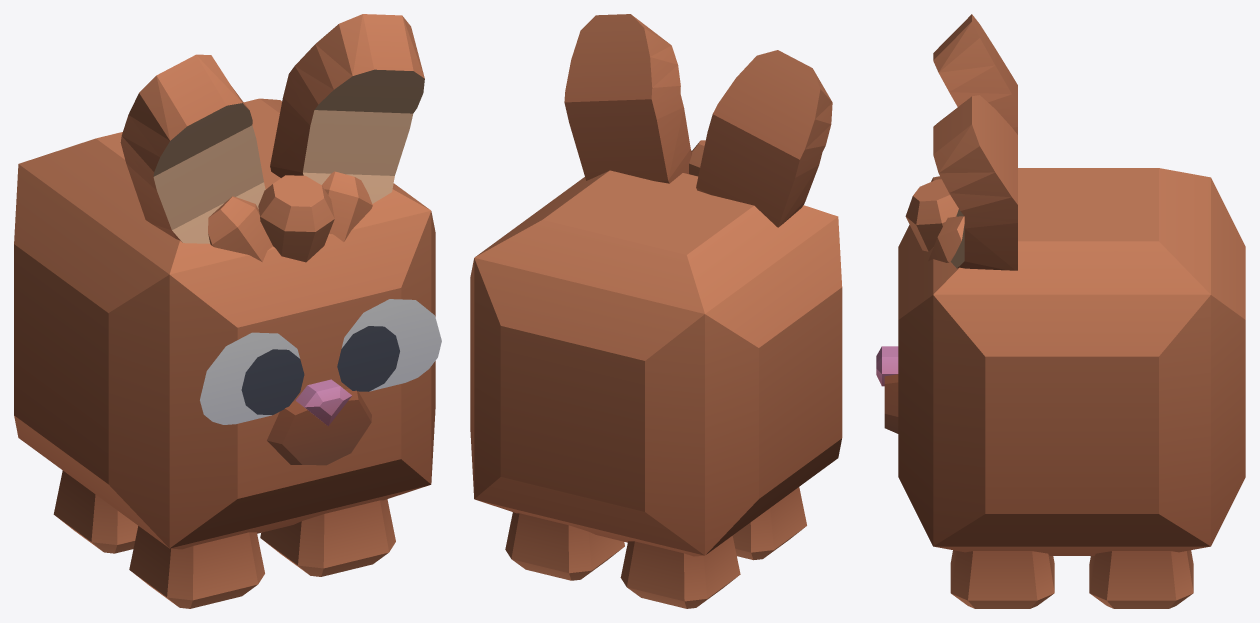
File: animal-bunny.glb
3 views of the same model, side by side, from view 1: azimuth 30°, elevation 25°; view 2: azimuth 150°, elevation 25°; view 3: azimuth 270°, elevation 25° (orthographic). The views are drawn at different scales.
Visible parts, largest first — view 1: geometry_0; view 2: geometry_0; view 3: geometry_0.
Boxes of the visible parts, left/top/right/bottom form: geometry_0: left=14, top=14, right=441, bottom=608; geometry_0: left=470, top=14, right=842, bottom=608; geometry_0: left=876, top=14, right=1245, bottom=608.
Bounding box in the file's own units: 0.5162 × 0.83 × 0.5491.
